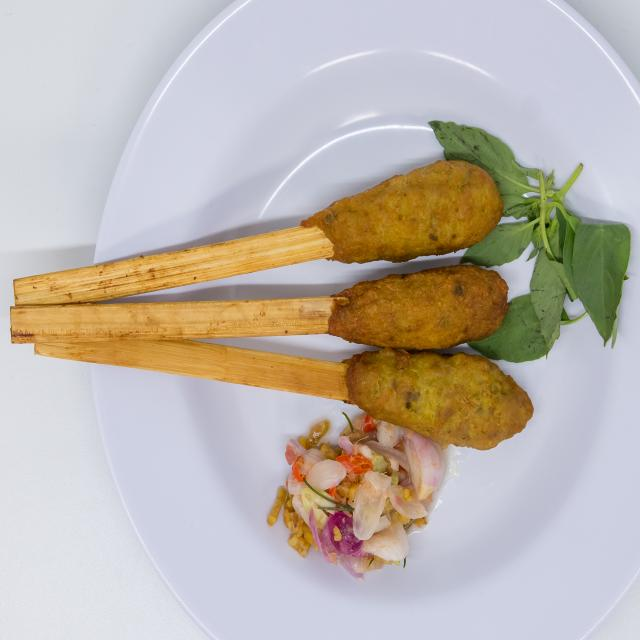Sate-Lilit: (104, 105, 597, 592)
